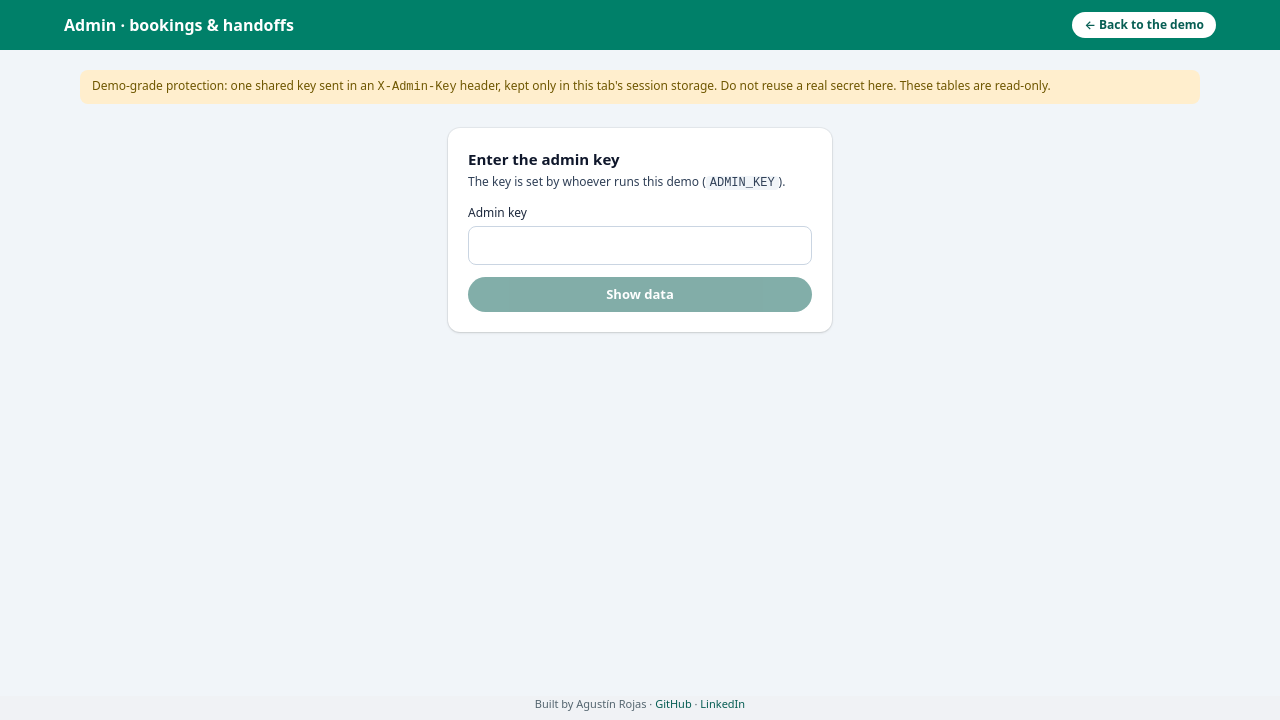
Scenario: AdminPage › 503: explains that the admin is disabled on the server
The width and height of the screenshot is (1280, 720).
Step 1. Type "secret" into the password field labelled "Admin key" → (640, 245), box [468, 226, 812, 264]
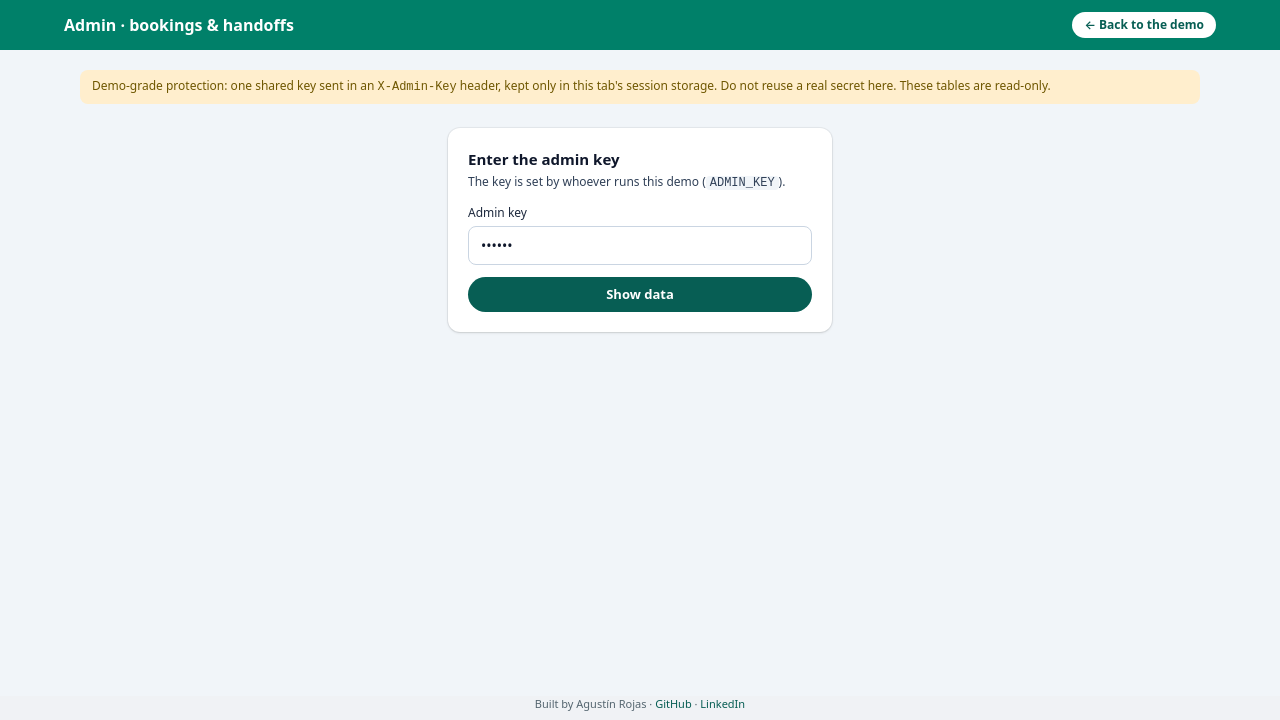
Step 2. Click the button "Show data" → (640, 294), box [468, 276, 812, 312]
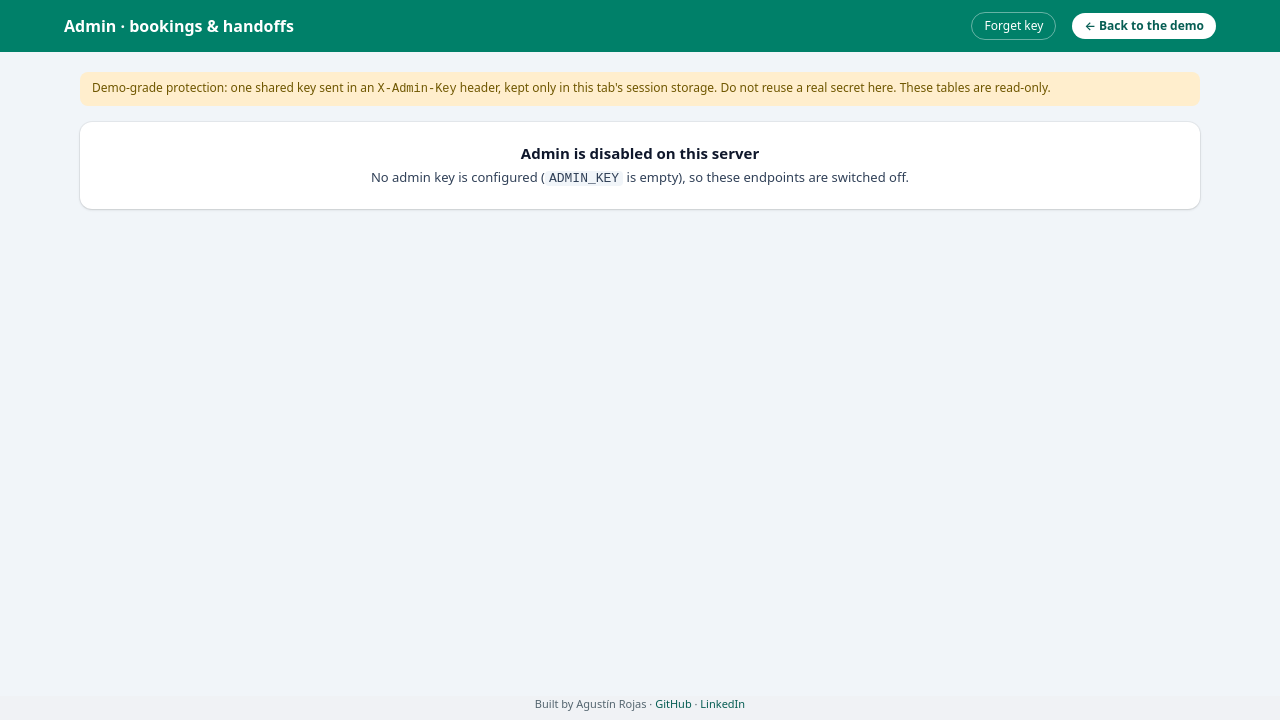
Check: the heading "Admin is disabled on this server" is shown, box [521, 142, 759, 162]
